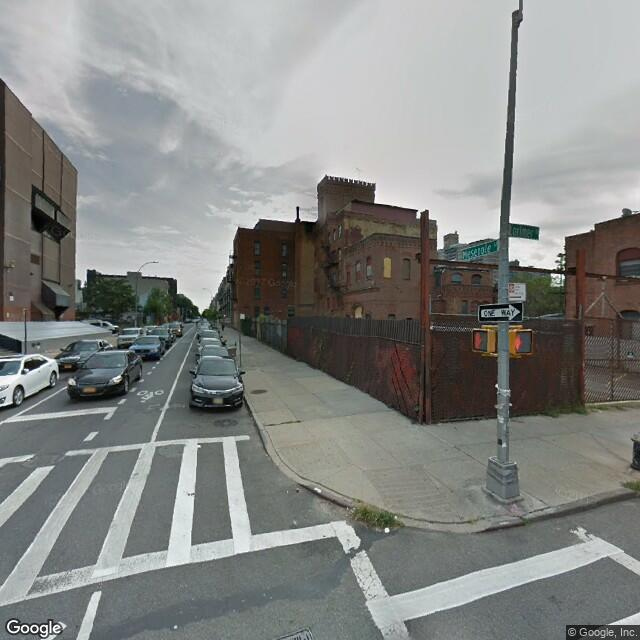litter: (381, 522, 393, 537), (388, 515, 402, 523), (315, 484, 325, 494)
